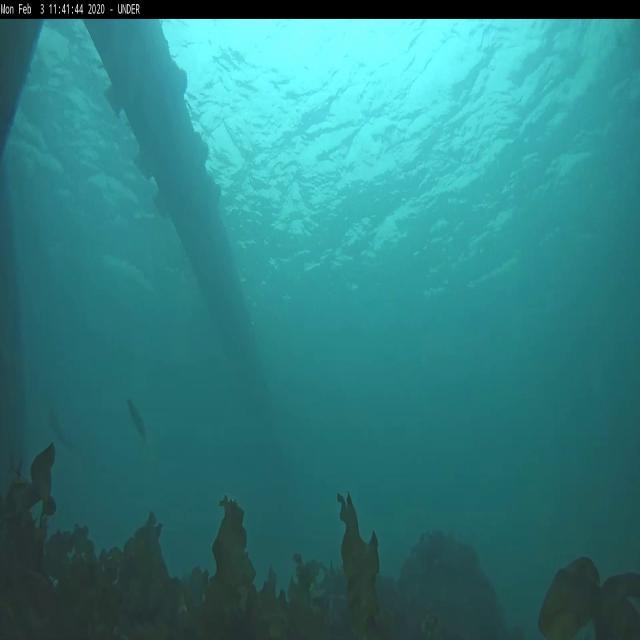fish: (47, 407, 77, 452), (125, 396, 148, 444)
